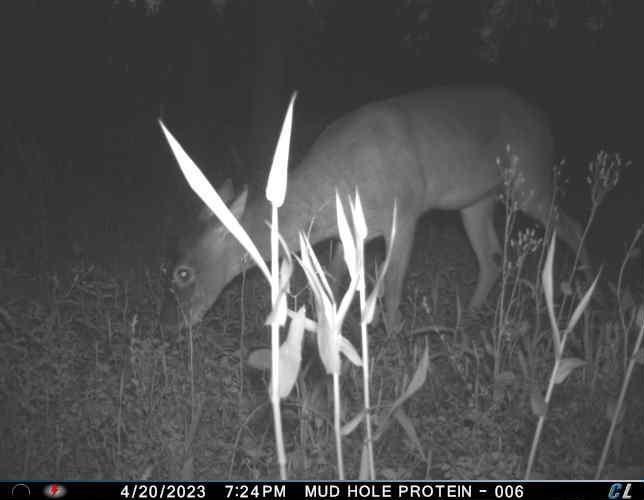Deer: (159, 74, 610, 335)
